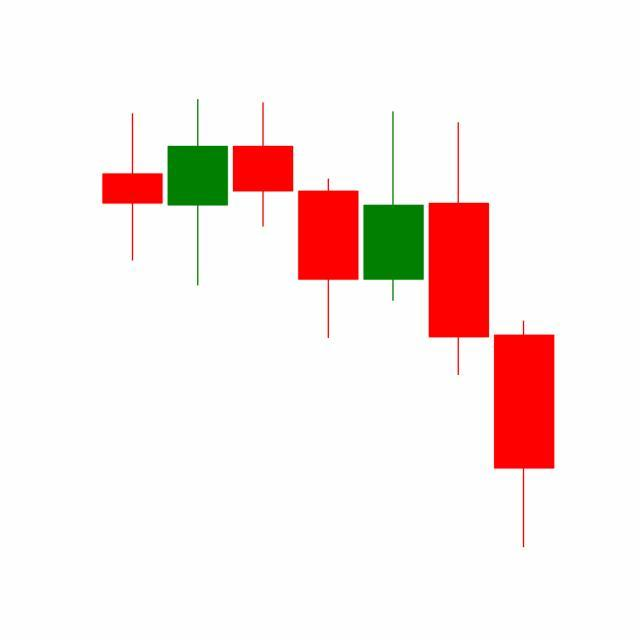Three Outside Up-Down: (360, 107, 556, 549)
